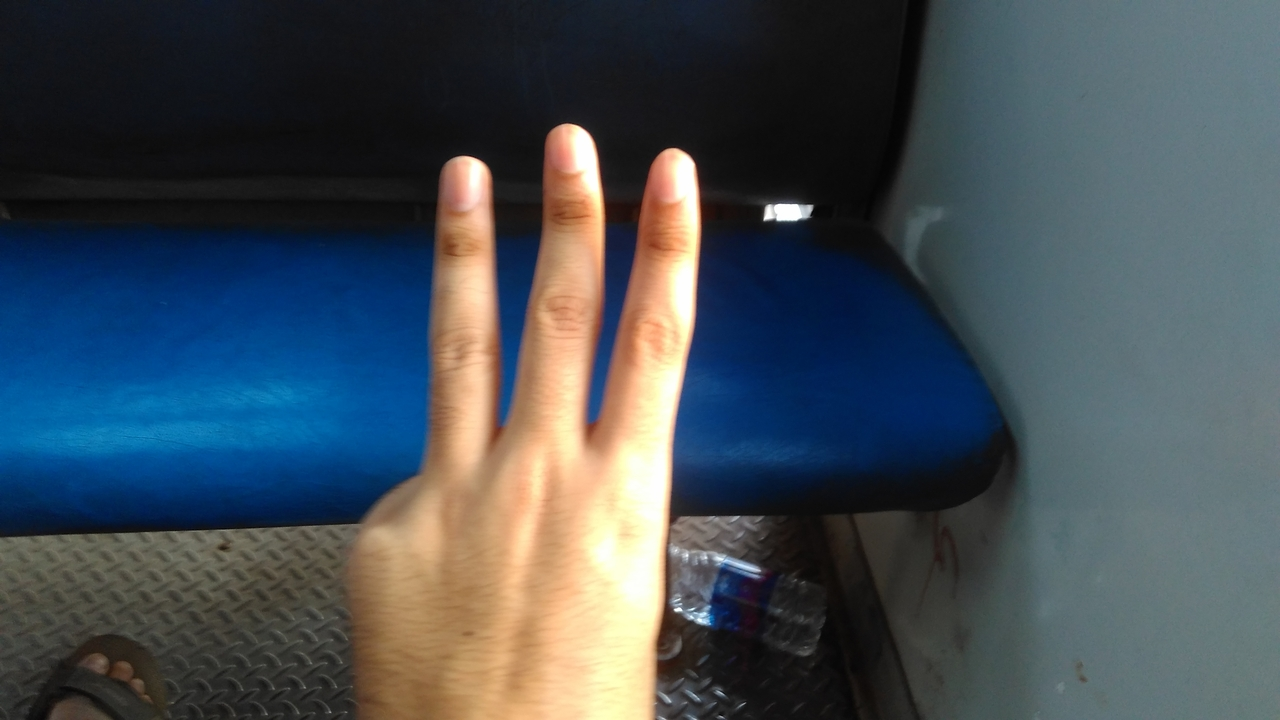fingertip: (638, 142, 700, 208), (430, 152, 492, 212), (538, 118, 598, 178)
